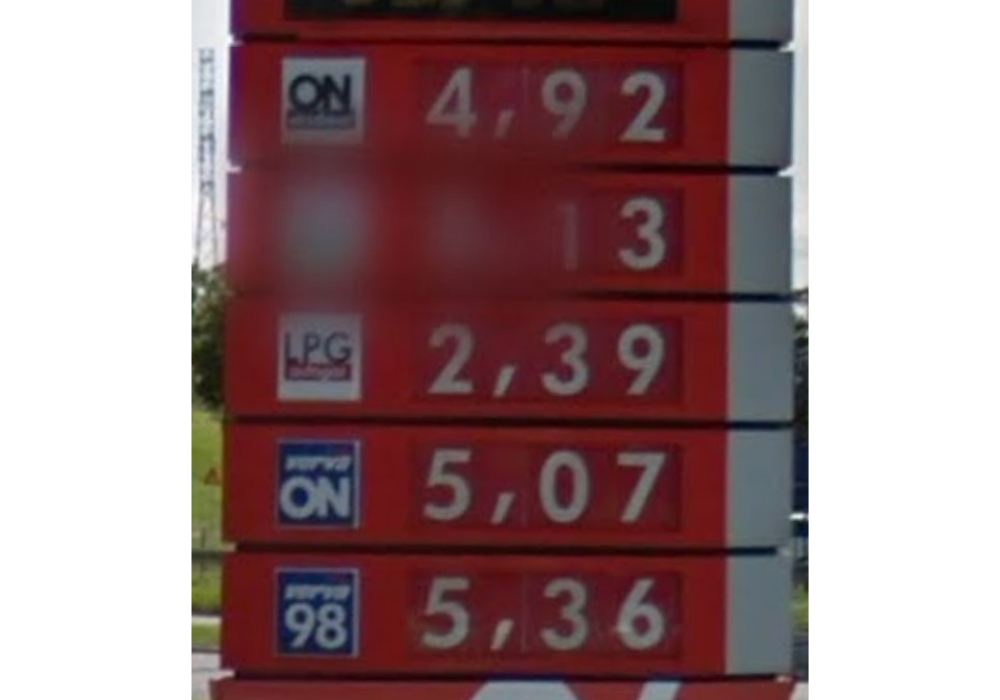LPG: (277, 306, 365, 405)
ON: (271, 435, 364, 530), (277, 53, 368, 148)
PB98: (274, 564, 358, 660)
